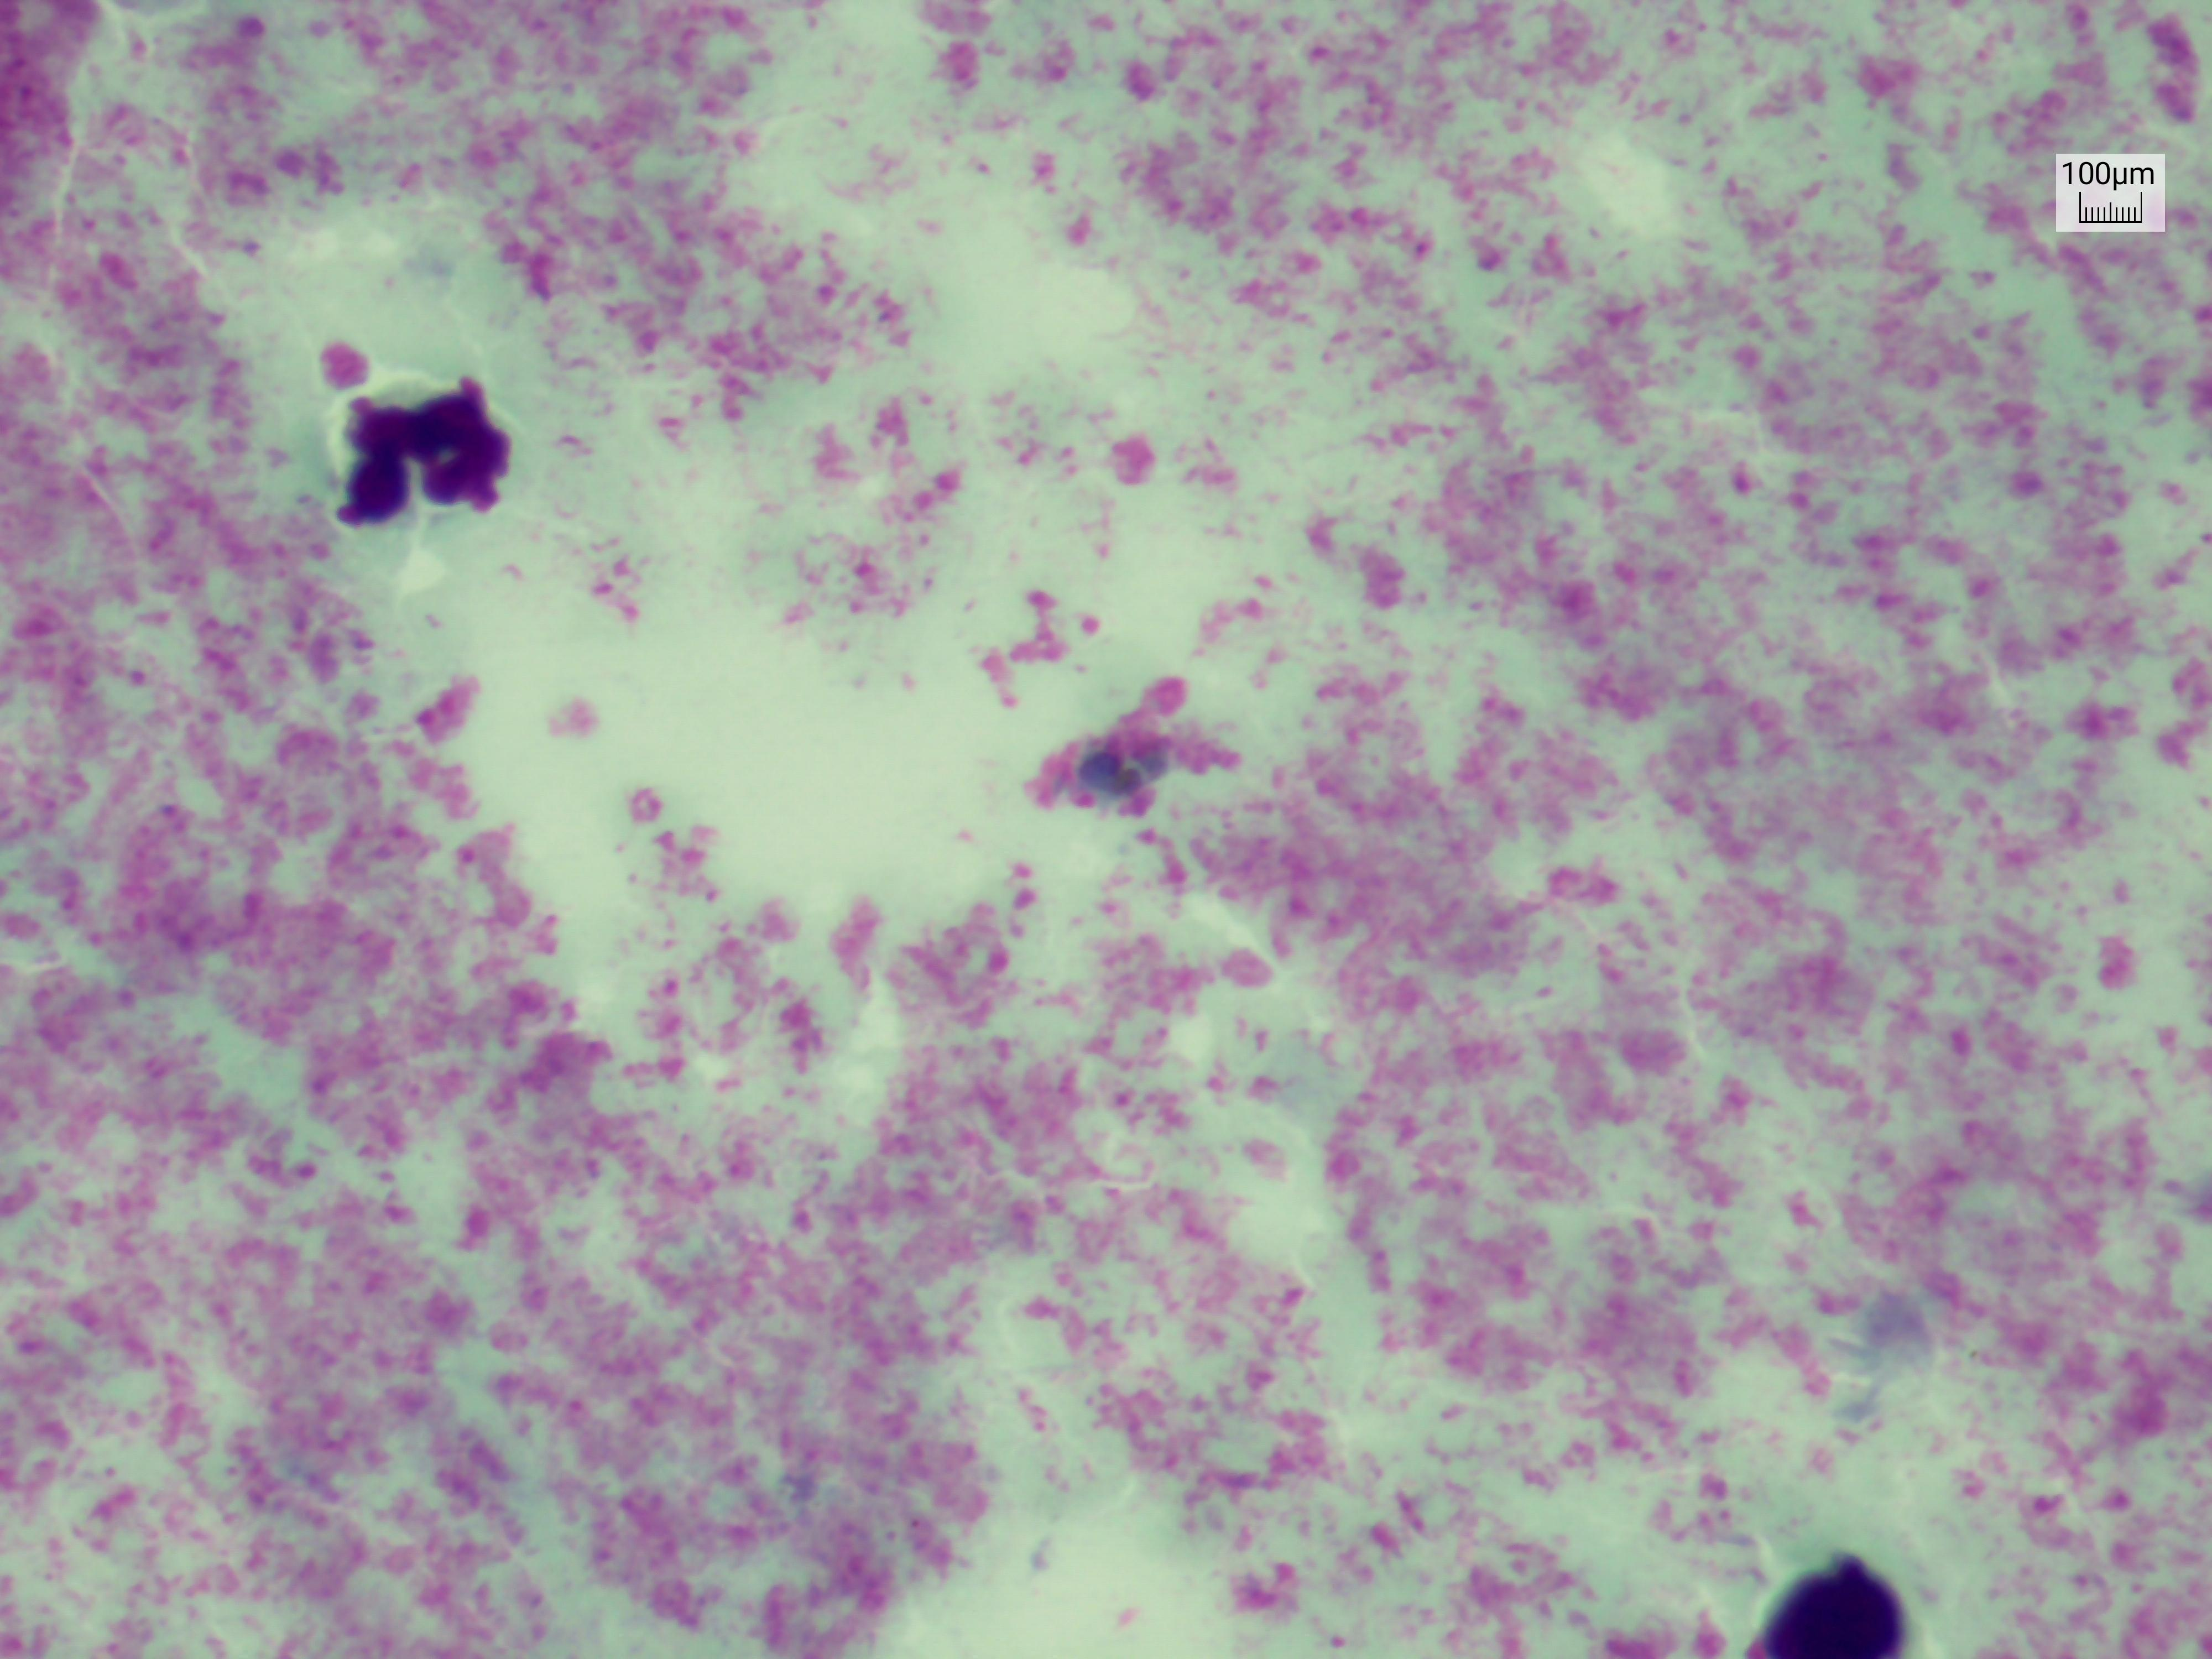p.vivax: (1050, 702, 1198, 842)
